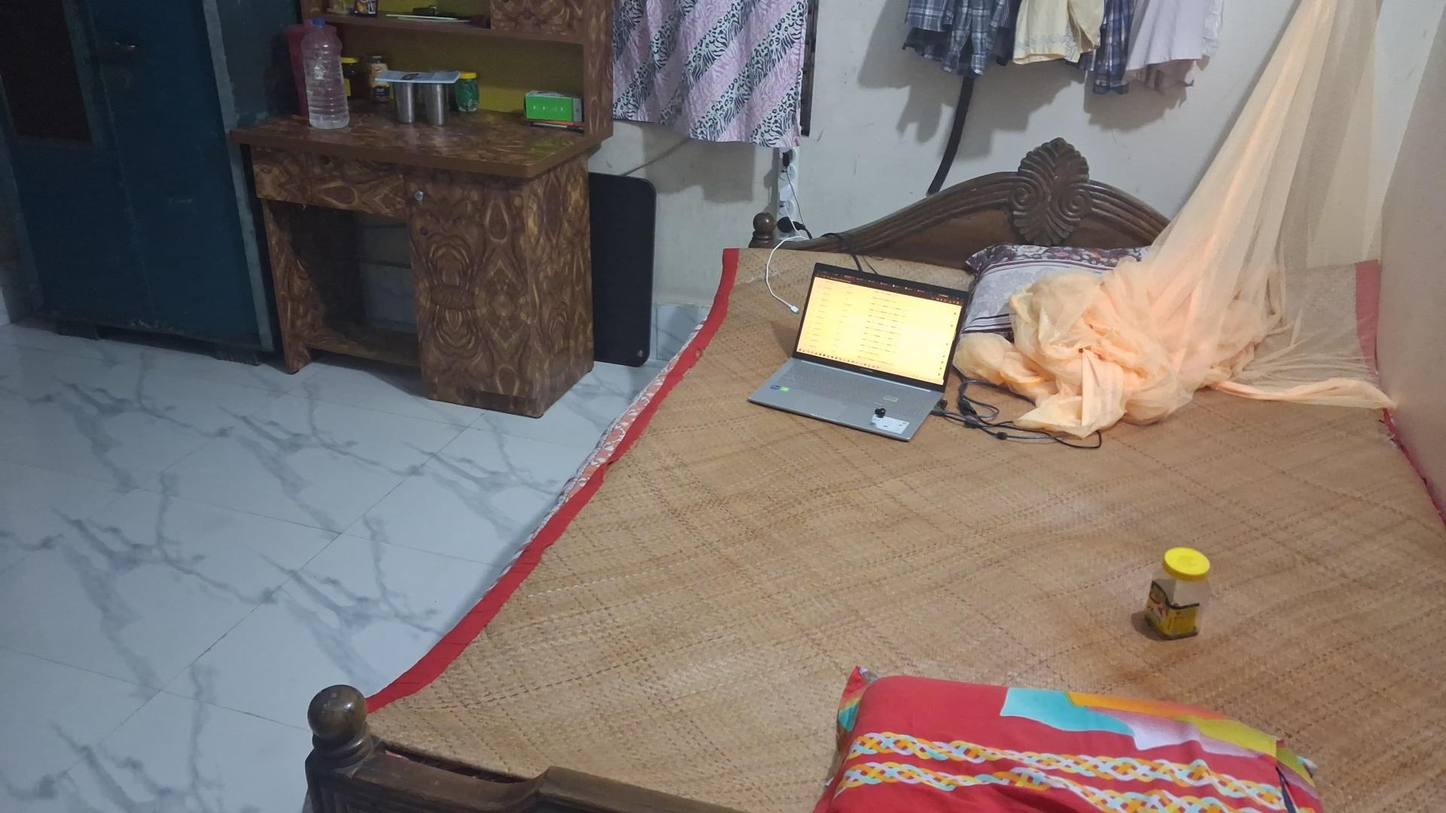Bottle: (300, 21, 349, 129)
Box: (524, 90, 584, 122)
Glass: (423, 83, 449, 125), (394, 82, 418, 123)
Jar: (1145, 547, 1211, 638), (455, 73, 479, 112)
Laptop: (746, 263, 975, 442)
Notebook: (374, 69, 460, 83)
Pillow: (826, 661, 1318, 813)
